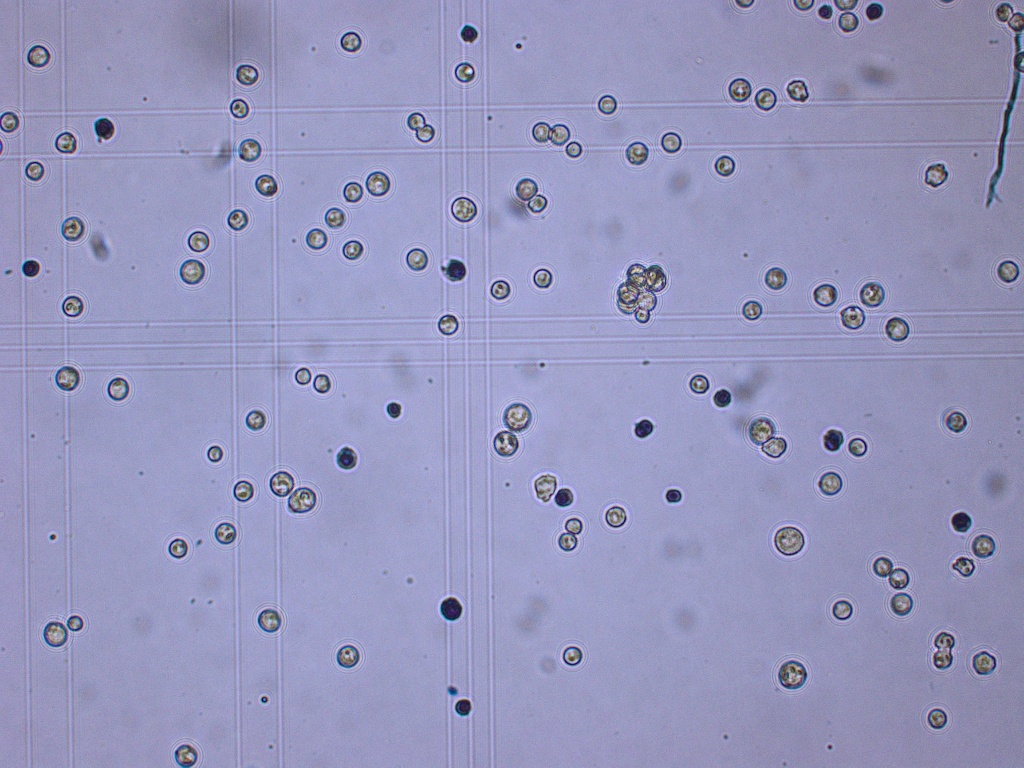Aggregate: (618, 262, 665, 322)
dead: (440, 596, 462, 621), (336, 446, 356, 469), (95, 117, 114, 139), (447, 258, 466, 280), (823, 429, 841, 451), (952, 511, 970, 532), (556, 488, 574, 507), (713, 388, 731, 406), (866, 2, 883, 21), (635, 419, 652, 437), (455, 698, 472, 715), (460, 25, 477, 40), (23, 259, 38, 276), (666, 488, 681, 504), (386, 401, 401, 417), (820, 4, 831, 18)
live: (774, 526, 803, 555), (503, 402, 530, 432), (779, 660, 807, 688), (289, 487, 317, 514), (886, 315, 910, 343), (493, 430, 517, 457), (840, 305, 865, 330), (450, 197, 476, 221), (860, 281, 886, 305), (749, 419, 773, 445), (366, 172, 390, 197), (180, 260, 204, 285), (56, 366, 80, 391), (270, 472, 295, 496), (43, 620, 66, 646), (61, 216, 84, 241), (337, 645, 360, 669), (996, 260, 1020, 283), (812, 284, 837, 306), (175, 743, 197, 768), (536, 474, 556, 501), (765, 266, 788, 289), (972, 533, 995, 556), (235, 64, 259, 86), (26, 46, 50, 68), (787, 79, 809, 103), (238, 138, 260, 162), (325, 207, 347, 231), (215, 521, 237, 545), (820, 471, 842, 495), (925, 162, 946, 187), (227, 209, 250, 231), (437, 314, 460, 336), (407, 247, 427, 272), (730, 79, 752, 101), (754, 87, 775, 110), (107, 378, 130, 399), (259, 608, 280, 631), (974, 651, 995, 674), (951, 556, 974, 577), (627, 141, 647, 165), (54, 131, 78, 151), (341, 31, 362, 53), (256, 174, 277, 196), (891, 593, 912, 615), (516, 178, 538, 199), (947, 410, 967, 433), (63, 295, 84, 316), (715, 154, 735, 176), (661, 132, 681, 154), (743, 299, 765, 319), (874, 555, 894, 577), (597, 94, 618, 114), (306, 228, 326, 249), (606, 505, 626, 526), (453, 63, 475, 82), (342, 181, 361, 203), (187, 231, 209, 250), (26, 160, 45, 182), (839, 10, 858, 32), (763, 437, 785, 456), (1, 110, 19, 133), (235, 480, 254, 501), (995, 2, 1014, 23), (246, 410, 265, 430), (928, 708, 947, 728), (229, 99, 250, 117), (533, 122, 551, 143), (168, 538, 189, 556), (849, 435, 867, 456), (564, 645, 582, 666), (549, 123, 568, 142), (342, 241, 362, 259), (406, 112, 426, 130), (935, 630, 955, 648), (492, 280, 510, 299), (414, 125, 435, 141), (558, 532, 576, 550), (533, 269, 550, 288), (833, 599, 850, 618), (891, 568, 908, 587), (689, 374, 707, 391), (934, 650, 951, 668), (565, 141, 582, 157), (295, 367, 311, 384), (66, 614, 84, 629), (565, 517, 583, 532), (315, 374, 329, 391), (208, 445, 222, 462), (791, 1, 814, 11), (833, 1, 858, 9), (735, 1, 755, 8)
